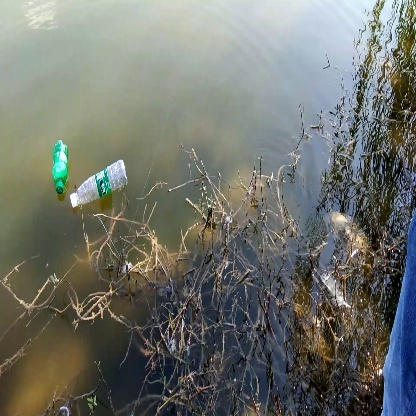bottle: (69, 157, 133, 213), (40, 138, 79, 197)
